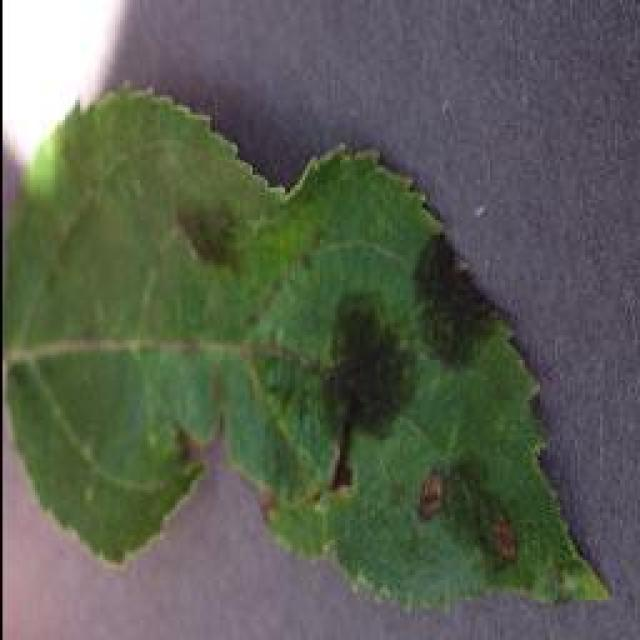apple scab disease: (2, 80, 612, 612)
